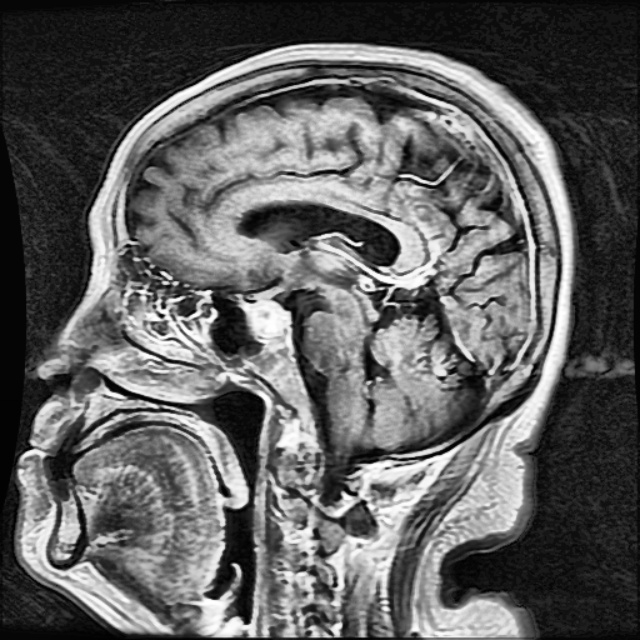Pituitary: (244, 302, 292, 340)
